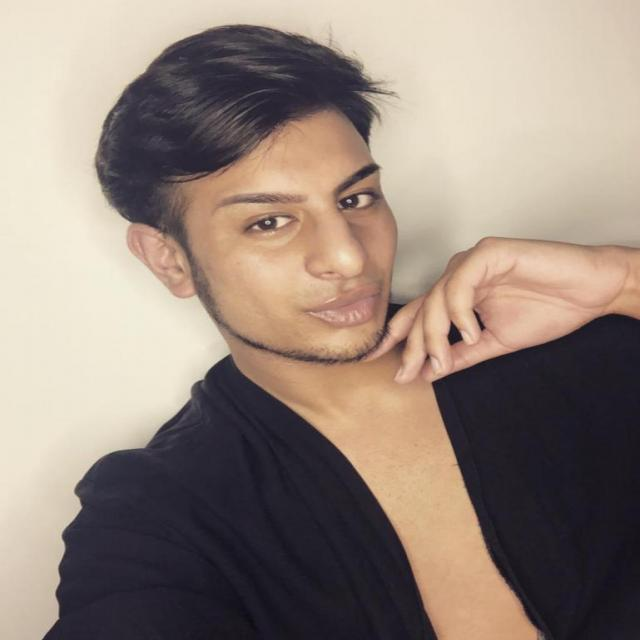earlobe: (168, 271, 198, 299)
eye: (242, 212, 299, 234), (337, 190, 377, 211)
nose: (313, 271, 380, 291)
wholeear: (125, 222, 198, 299)
